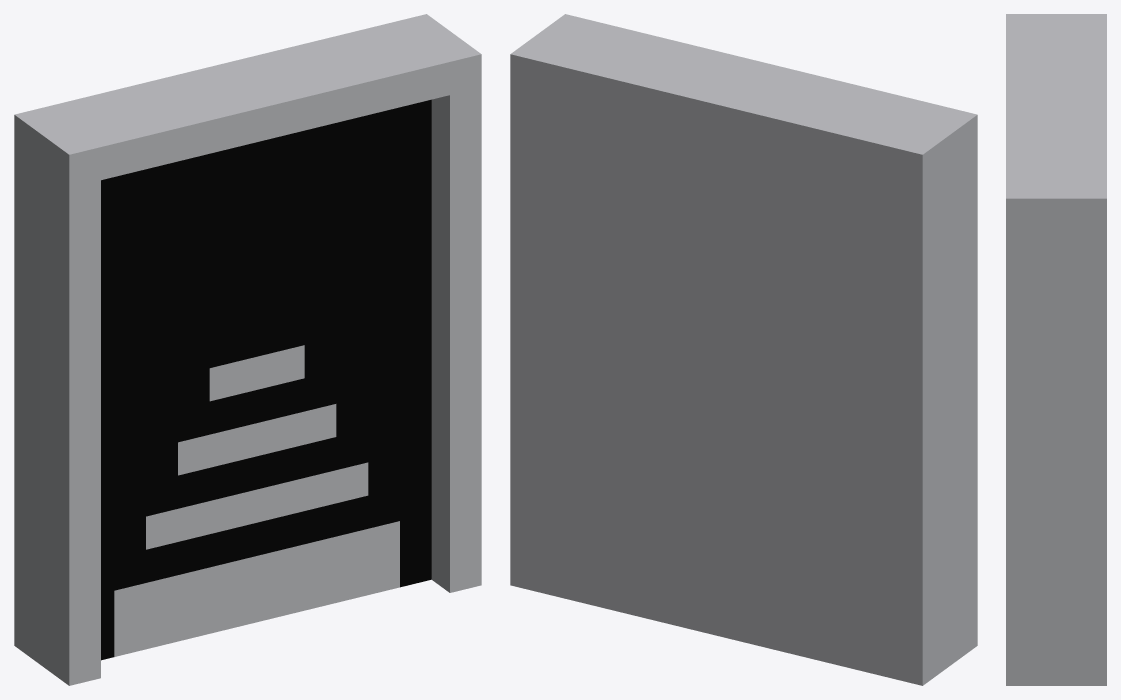
File: dungeon_d_a_entrance_c.obj
3 renders of one model, left to right at view 1: azimuth 30°, elevation 25°; view 2: azimuth 150°, elevation 25°; view 3: azimuth 270°, elevation 25°, orthographic. The views are drawn at different scales.
Bounding box in the file's own units: 1.3 × 1.6 × 0.3.
1 material, 1 textured.
